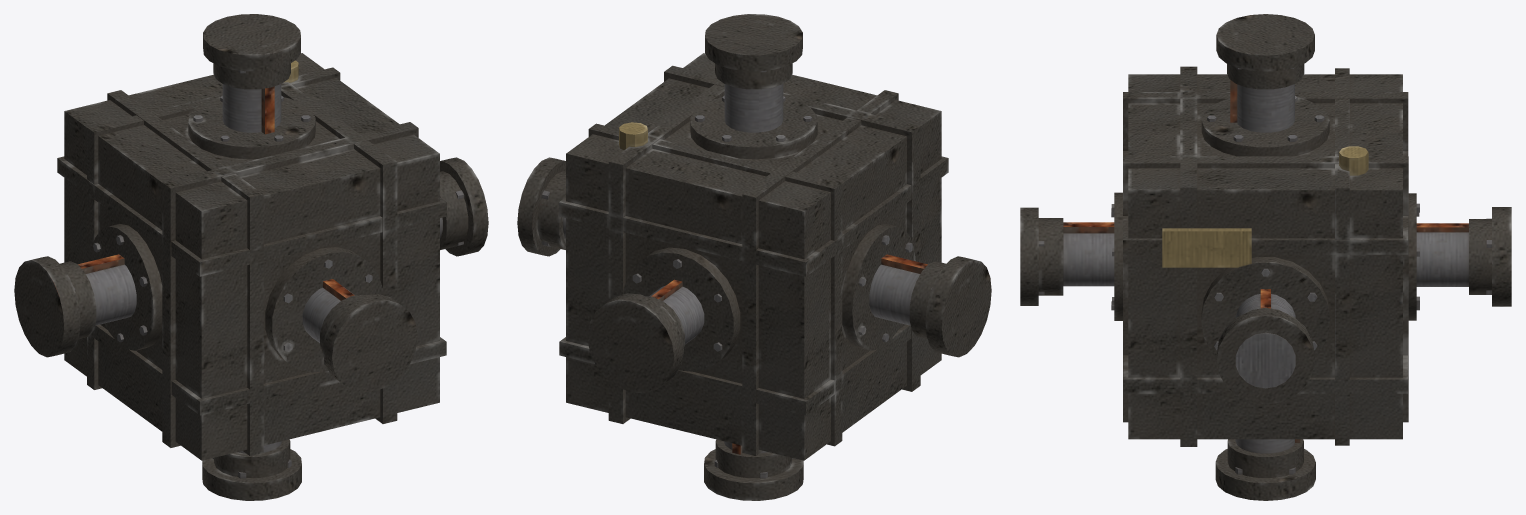
File: feGearbox_HD.fbx
The picture shows the model from 3 angles, left to right: view 1: azimuth 30°, elevation 25°; view 2: azimuth 150°, elevation 25°; view 3: azimuth 270°, elevation 25°; orthographic projection.
Visible parts, largest first — view 1: feGearbox_Base, FeSpin_Gearbox4, FeSpin_Gearbox2, FeSpin_Gearbox5, FeSpin_Gearbox6, FeSpin_Gearbox3; view 2: feGearbox_Base, FeSpin_Gearbox1, FeSpin_Gearbox4, FeSpin_Gearbox5, FeSpin_Gearbox6, FeSpin_Gearbox3; view 3: feGearbox_Base, FeSpin_Gearbox5, FeSpin_Gearbox3, FeSpin_Gearbox2, FeSpin_Gearbox1, FeSpin_Gearbox6.
Boxes of the visible parts, x1,y1,x2,y2 form: feGearbox_Base: (57, 53, 446, 460); FeSpin_Gearbox4: (14, 254, 136, 357); FeSpin_Gearbox2: (302, 279, 417, 392); FeSpin_Gearbox5: (203, 14, 300, 134); FeSpin_Gearbox6: (202, 439, 301, 500); FeSpin_Gearbox3: (440, 157, 488, 256); feGearbox_Base: (559, 53, 948, 460); FeSpin_Gearbox1: (587, 279, 704, 393); FeSpin_Gearbox4: (869, 254, 991, 357); FeSpin_Gearbox5: (705, 14, 802, 132); FeSpin_Gearbox6: (704, 439, 803, 500); FeSpin_Gearbox3: (517, 157, 565, 256); feGearbox_Base: (1111, 66, 1419, 446); FeSpin_Gearbox5: (1216, 14, 1314, 132); FeSpin_Gearbox3: (1216, 289, 1314, 404); FeSpin_Gearbox2: (1020, 207, 1114, 305); FeSpin_Gearbox1: (1416, 207, 1511, 306); FeSpin_Gearbox6: (1215, 439, 1315, 500).
Bounding box in the file's own units: 1 × 1 × 1.
Materials: 1 (1 with a texture image).
